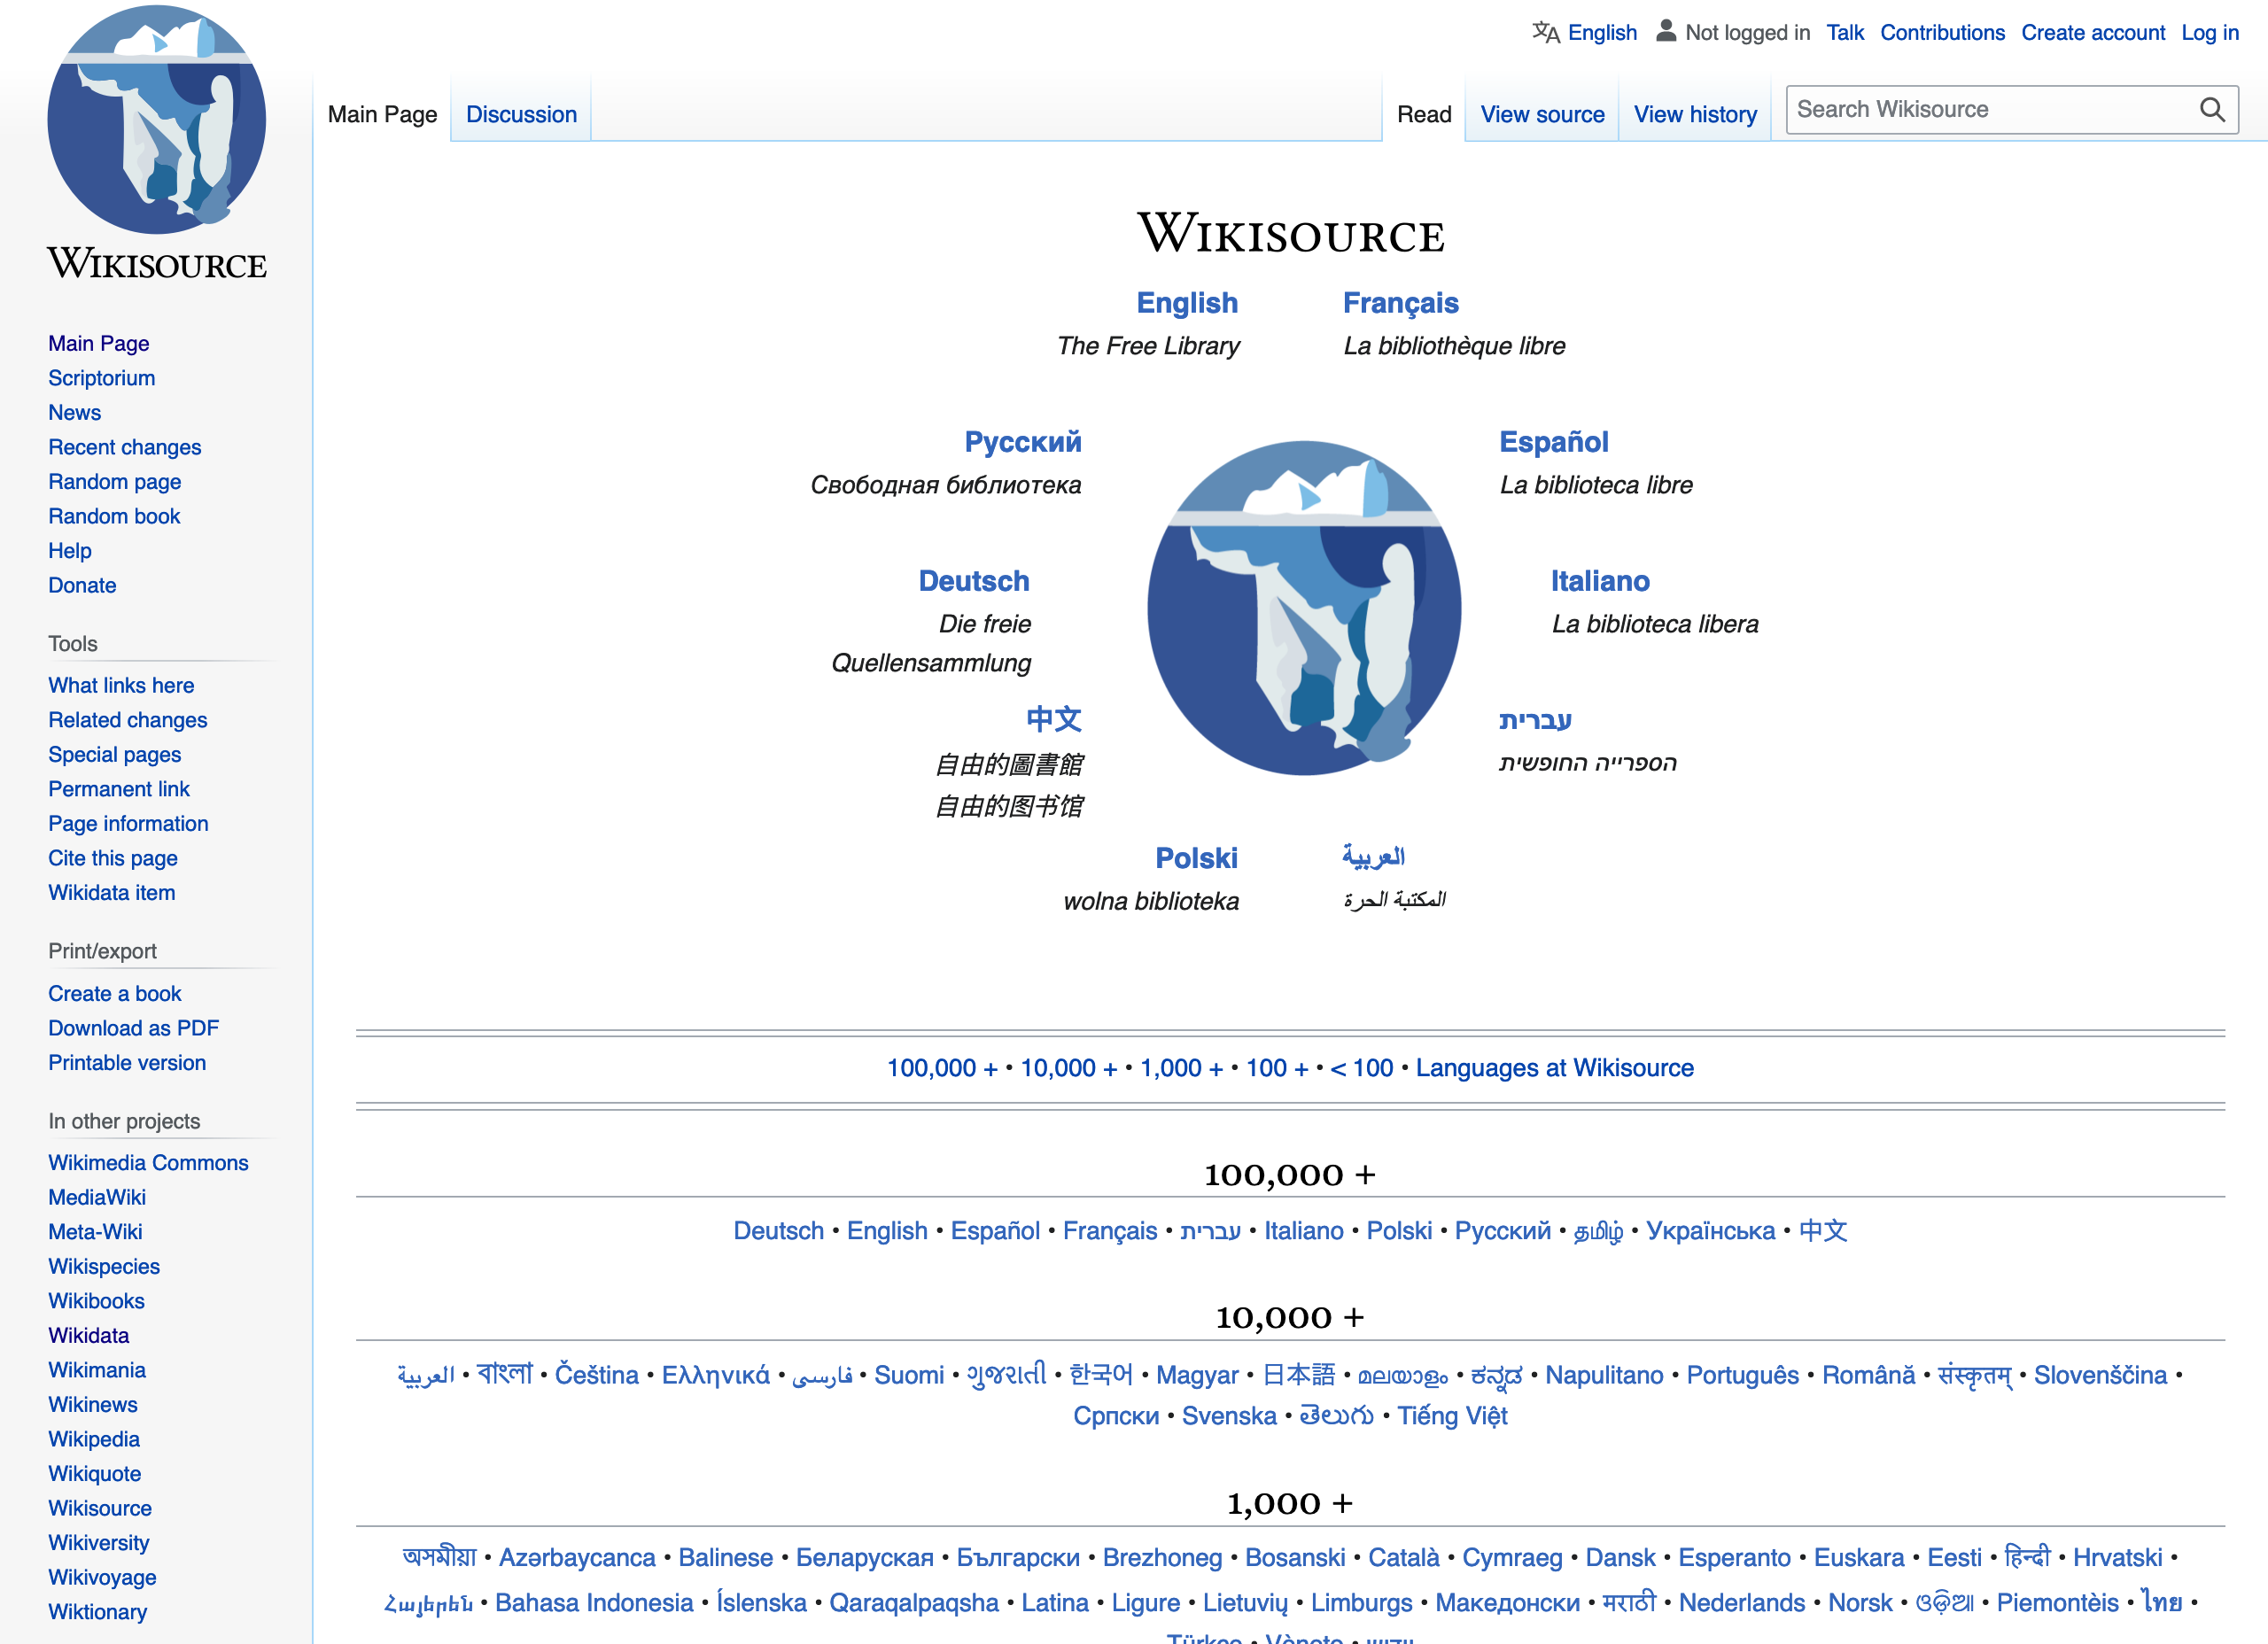Login: (2173, 12, 2249, 51)
